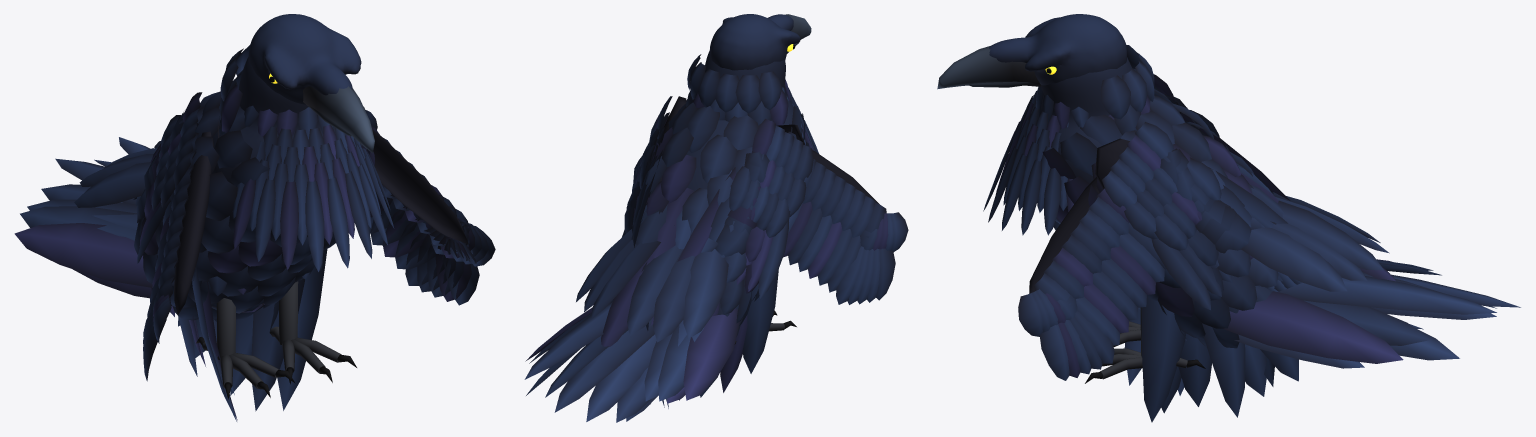
Rendered from rabe.glb.
3 views of the same model, side by side, from view 1: azimuth 30°, elevation 25°; view 2: azimuth 150°, elevation 25°; view 3: azimuth 270°, elevation 25° (orthographic). The views are drawn at different scales.
Parts seen in each view (by area): view 1: rabe_kehle_netz1, rabe_koerper_netz2, rabe_arm_l_netz1, rabe_kopf_netz1, rabe_arm_r_netz1, rabe_sf_0_netz1, rabe_handoffen_l_netz1, rabe_buerzel_netz1, rabe_handoffen_r_netz1, rabe_decke_r_netz1, rabe_koerper_netz1, rabe_kopf_netz3 (+11 smaller); view 2: rabe_koerper_netz2, rabe_buerzel_netz1, rabe_arm_r_netz1, rabe_decke_r_netz1, rabe_handoffen_r_netz1, rabe_kopf_netz1, rabe_sf_0_netz1, rabe_sf_10_netz1, rabe_sf_8_netz1, rabe_sf_7_netz1, rabe_koerper_netz1, rabe_sf_2_netz1 (+11 smaller); view 3: rabe_arm_l_netz1, rabe_koerper_netz2, rabe_handoffen_l_netz1, rabe_buerzel_netz1, rabe_decke_l_netz1, rabe_sf_1_netz1, rabe_kehle_netz1, rabe_kopf_netz1, rabe_sf_7_netz1, rabe_koerper_netz1, rabe_kopf_netz3, rabe_sf_3_netz1 (+12 smaller).
Part boxes in pixels (x1,y1,x2,y2): rabe_kehle_netz1: [232, 124, 394, 271]; rabe_koerper_netz2: [134, 45, 374, 321]; rabe_arm_l_netz1: [368, 126, 495, 305]; rabe_kopf_netz1: [248, 14, 361, 104]; rabe_arm_r_netz1: [143, 131, 213, 381]; rabe_sf_0_netz1: [14, 223, 152, 287]; rabe_handoffen_l_netz1: [133, 197, 327, 411]; rabe_buerzel_netz1: [74, 141, 161, 207]; rabe_handoffen_r_netz1: [144, 112, 237, 421]; rabe_decke_r_netz1: [151, 92, 202, 210]; rabe_koerper_netz1: [212, 57, 335, 211]; rabe_kopf_netz3: [303, 86, 374, 153]; rabe_koerper_netz2: [622, 54, 809, 326]; rabe_buerzel_netz1: [576, 188, 728, 347]; rabe_arm_r_netz1: [783, 150, 908, 304]; rabe_decke_r_netz1: [729, 119, 813, 237]; rabe_handoffen_r_netz1: [679, 151, 778, 400]; rabe_kopf_netz1: [709, 14, 800, 70]; rabe_sf_0_netz1: [683, 308, 739, 400]; rabe_sf_10_netz1: [554, 318, 654, 412]; rabe_sf_8_netz1: [586, 334, 656, 421]; rabe_sf_7_netz1: [524, 301, 612, 379]; rabe_koerper_netz1: [686, 51, 801, 191]; rabe_sf_2_netz1: [658, 325, 704, 401]; rabe_arm_l_netz1: [1018, 176, 1165, 380]; rabe_koerper_netz2: [1042, 45, 1278, 348]; rabe_handoffen_l_netz1: [1141, 148, 1298, 422]; rabe_buerzel_netz1: [1236, 163, 1395, 291]; rabe_decke_l_netz1: [1102, 122, 1221, 250]; rabe_sf_1_netz1: [1223, 291, 1403, 363]; rabe_kehle_netz1: [983, 91, 1073, 235]; rabe_kopf_netz1: [989, 14, 1126, 85]; rabe_sf_7_netz1: [1277, 275, 1496, 314]; rabe_koerper_netz1: [1039, 57, 1132, 183]; rabe_kopf_netz3: [937, 46, 1040, 89]; rabe_sf_3_netz1: [1304, 300, 1429, 345].
Size of the model in its own units: 0.485 by 0.5977 by 0.7982.
